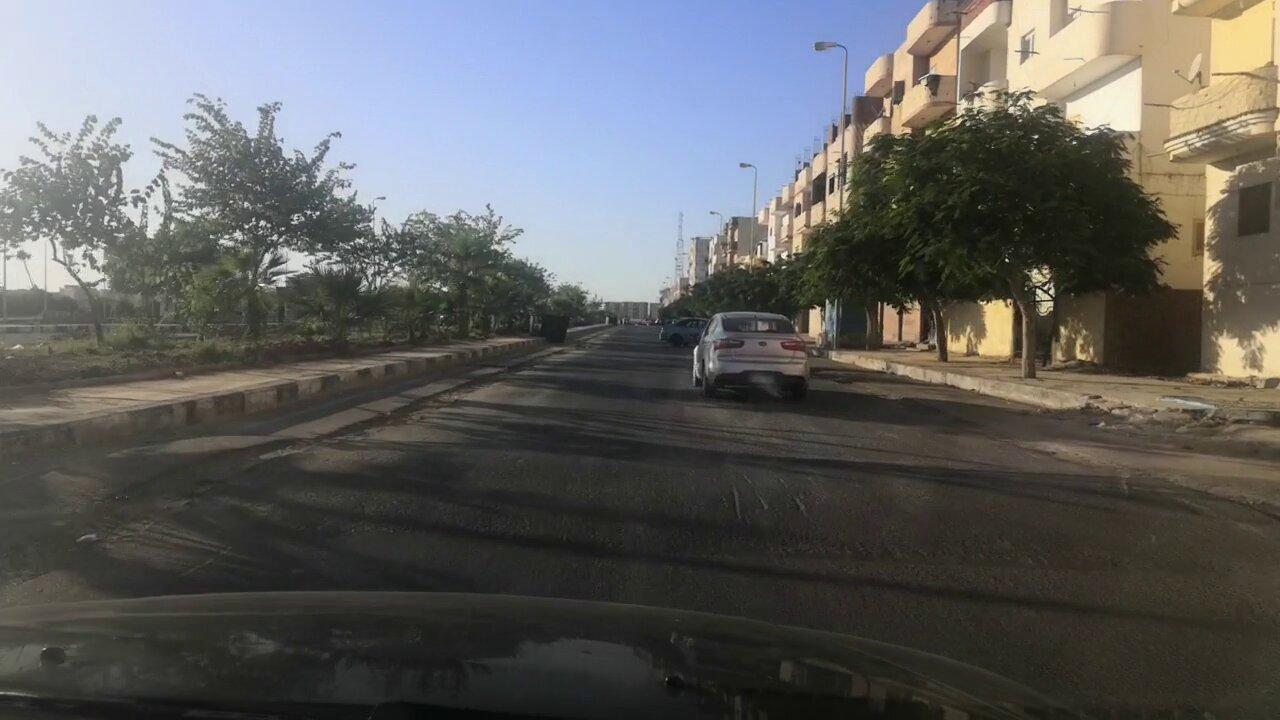Pothole: (72, 450, 298, 545)
